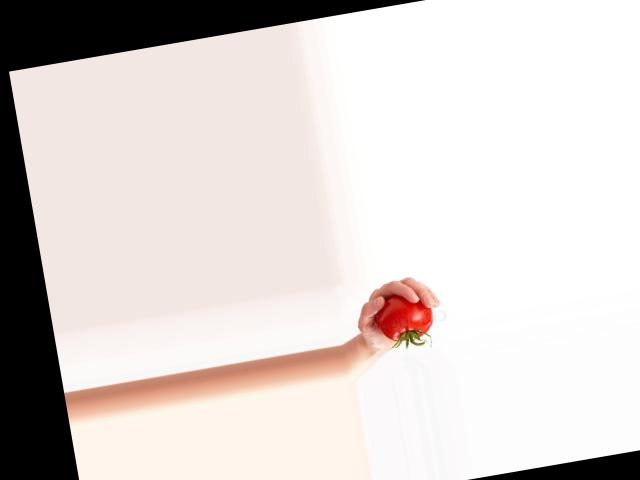tomato: (374, 289, 436, 344)
